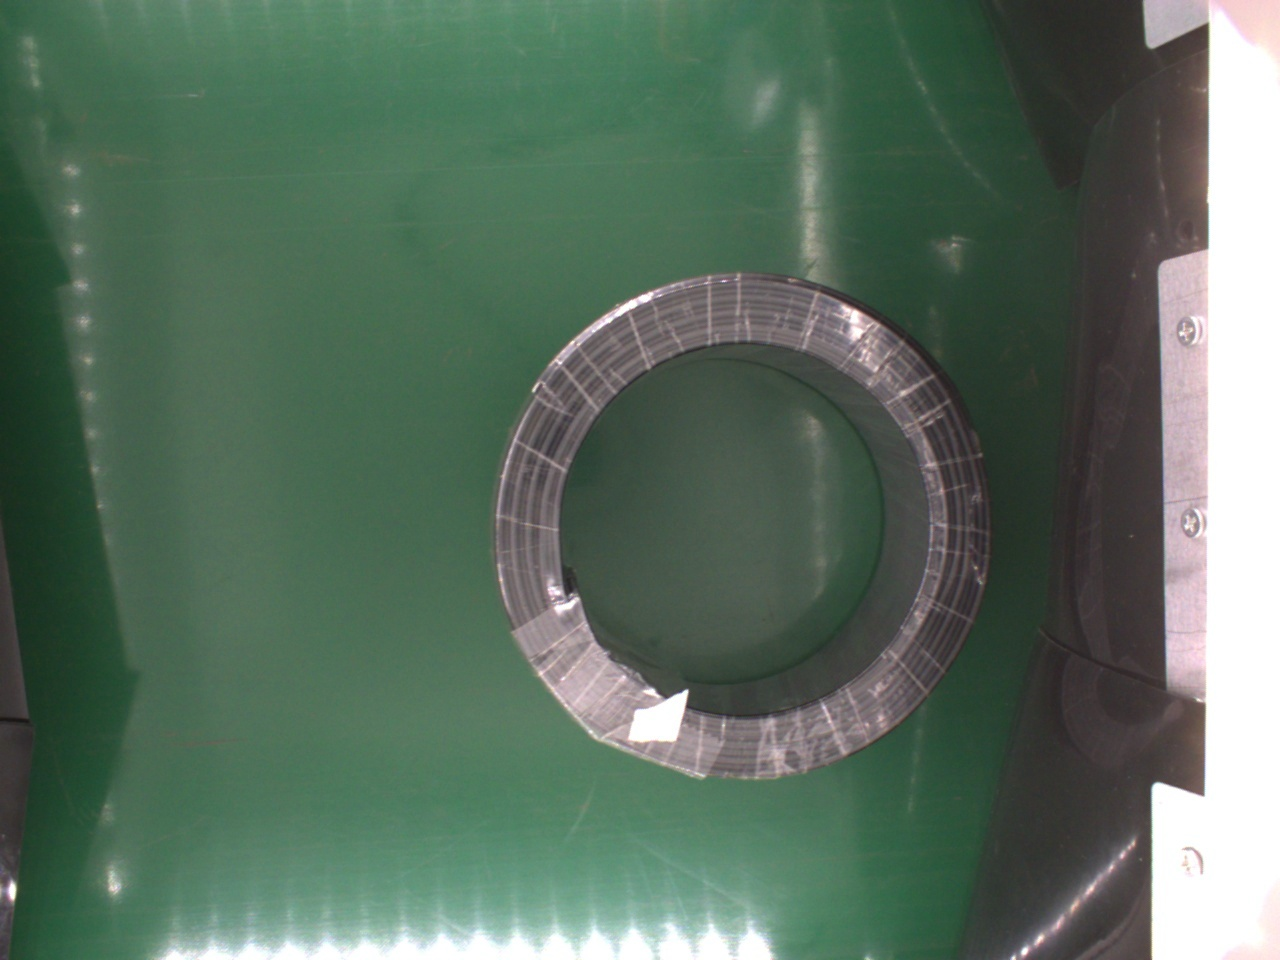black: (487, 270, 990, 779)
